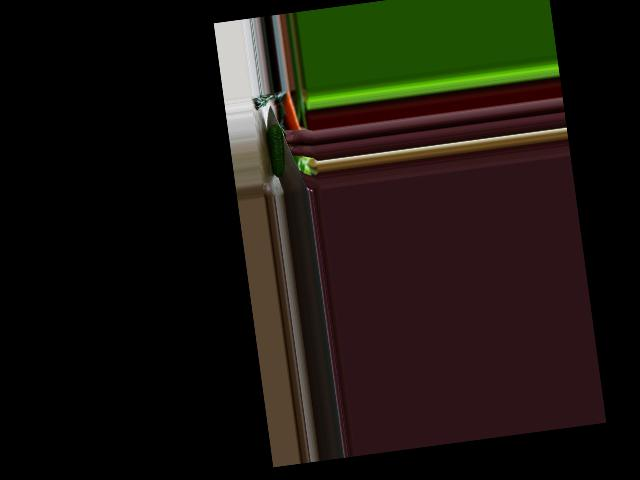cucumber: (265, 123, 287, 177)
